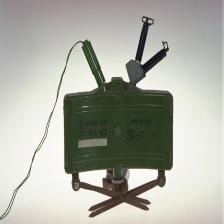MOH-50: (65, 73, 183, 203)
